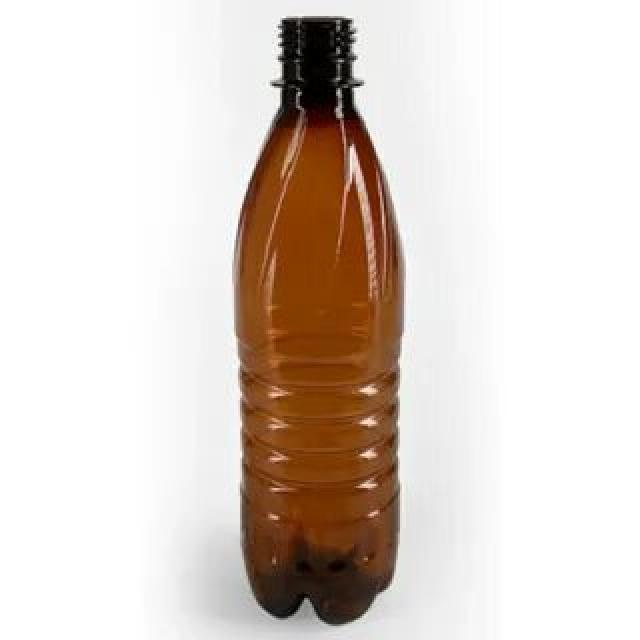brown: (238, 17, 400, 625)
